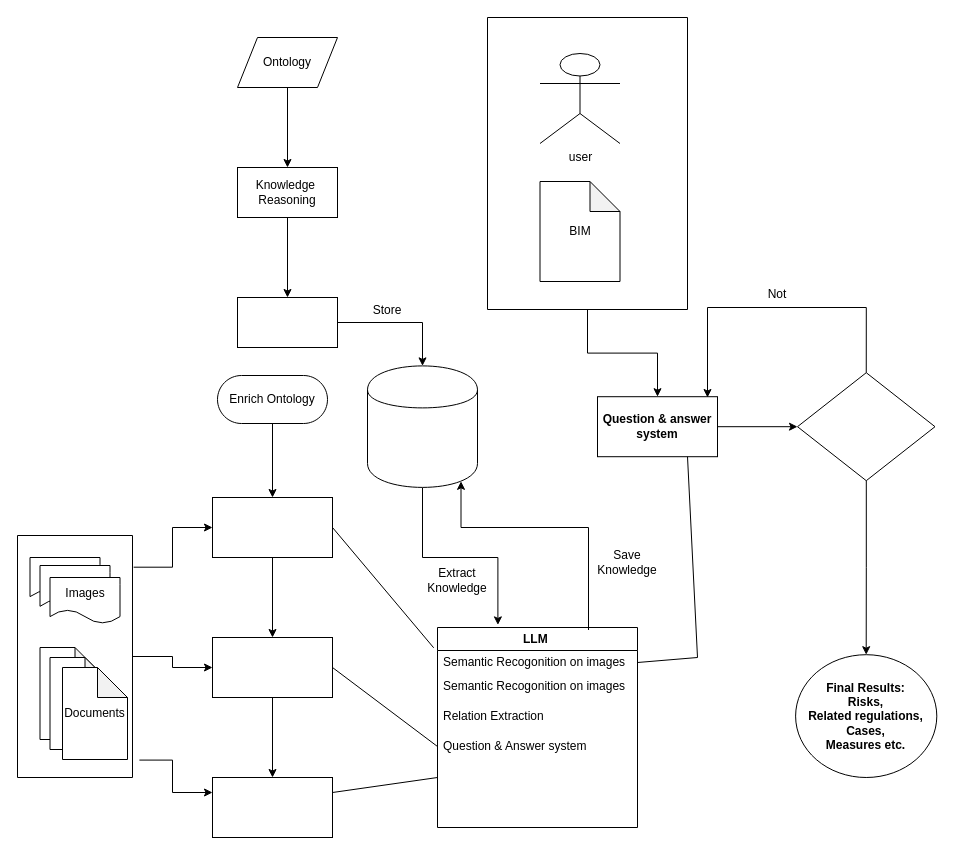
Some shapes in this 955 by 855 pixel diagram are drawn without their labels. The shapes that lost their labels are listed below. From the top down, each one's box as (x1, y1, x2, y2) in pixels, then its label:
(236, 296, 338, 348): Convert to JSON and triplets
(366, 365, 478, 487): Graph Database
(796, 372, 935, 481): User Agree or not
(212, 496, 332, 558): Identify Entities
(212, 636, 332, 698): Extract Properties
(212, 776, 332, 838): Extract Relations
